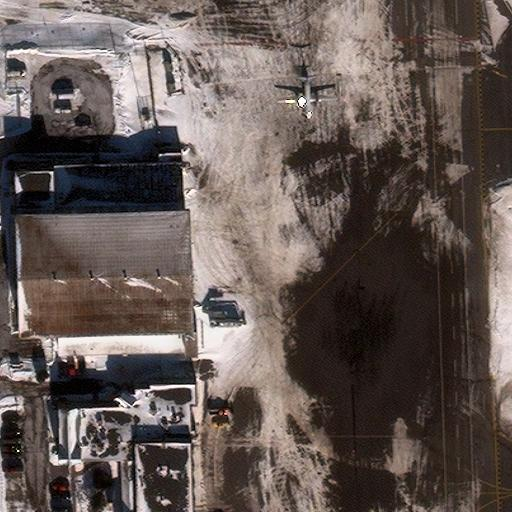Medium Civil Transport: (276, 76, 337, 119)
